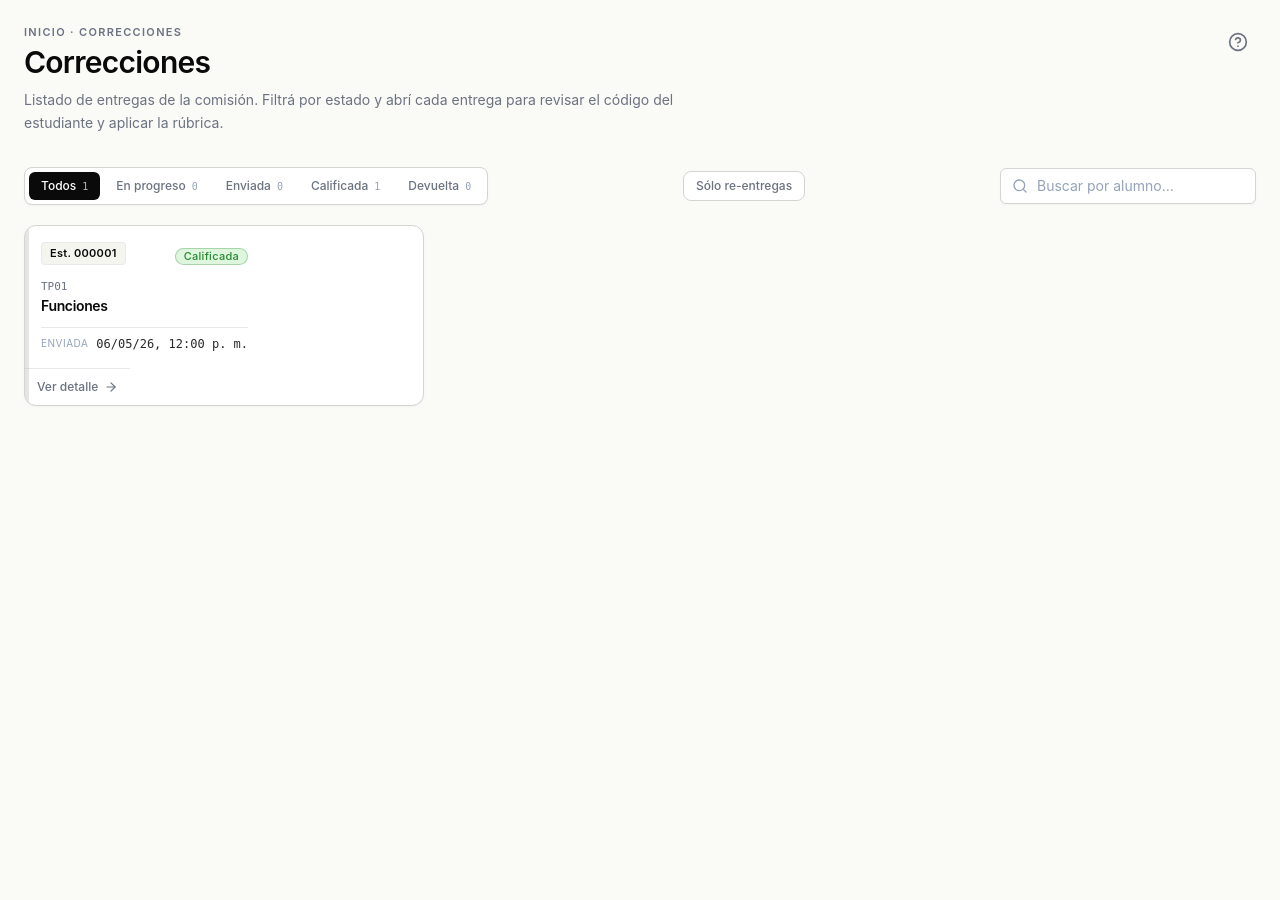
Test: Pedir correccion › destildar vuelve a deshabilitar confirmar
This screenshot has width=1280, height=900.
Click the button with test id "entrega-drill-btn" at x=83, y=254, box [24, 224, 424, 406]
(page scrolled)
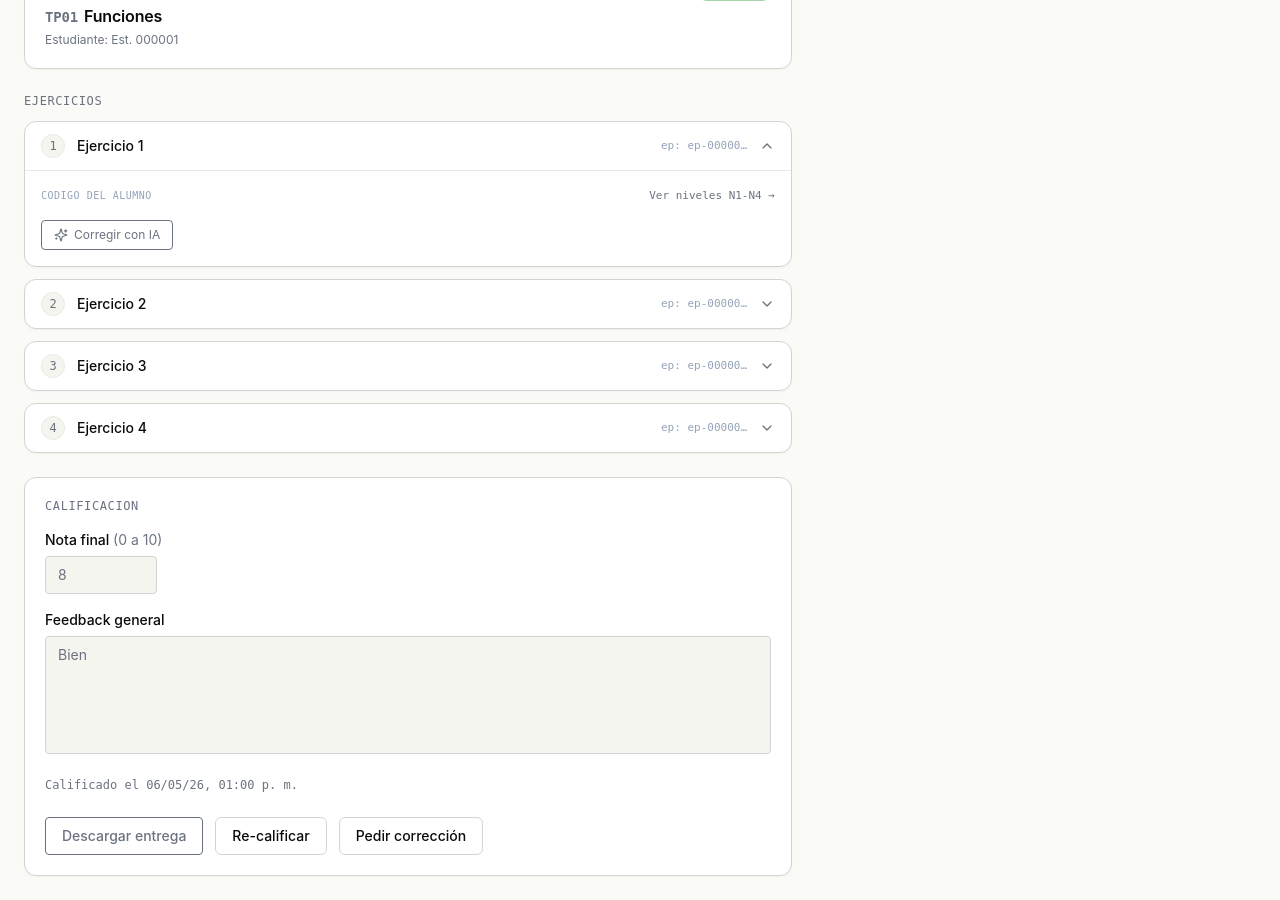
Result: the button with test id "devolver-btn" is shown
Click the button with test id "devolver-btn" at x=411, y=836, box [339, 817, 483, 855]
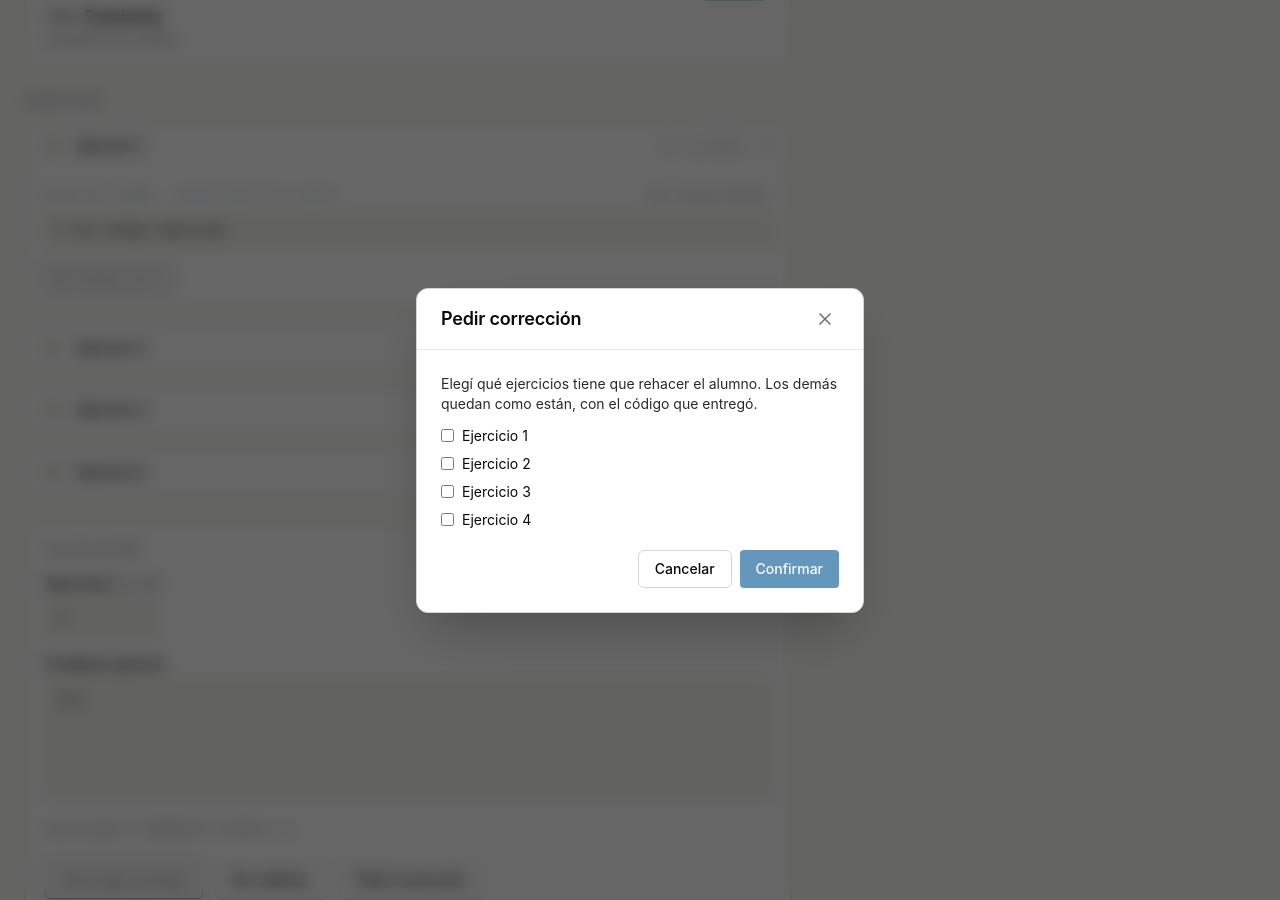
Click the checkbox with test id "pedir-correccion-ej-3" at x=448, y=492, box [441, 485, 454, 498]
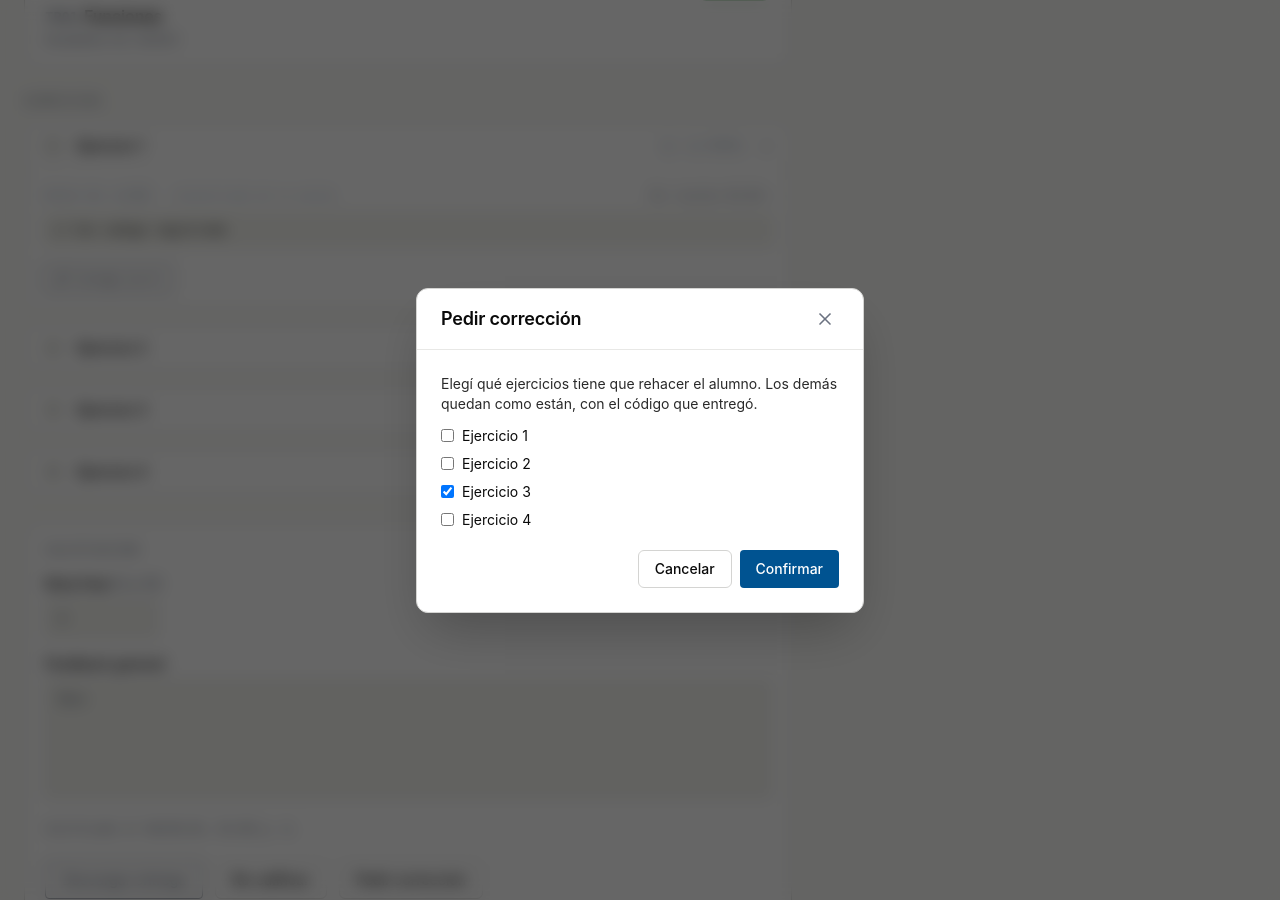
Result: the button with test id "pedir-correccion-confirmar-btn" is enabled at [740, 550, 839, 588]
Click the checkbox with test id "pedir-correccion-ej-3" at x=448, y=492, box [441, 485, 454, 498]
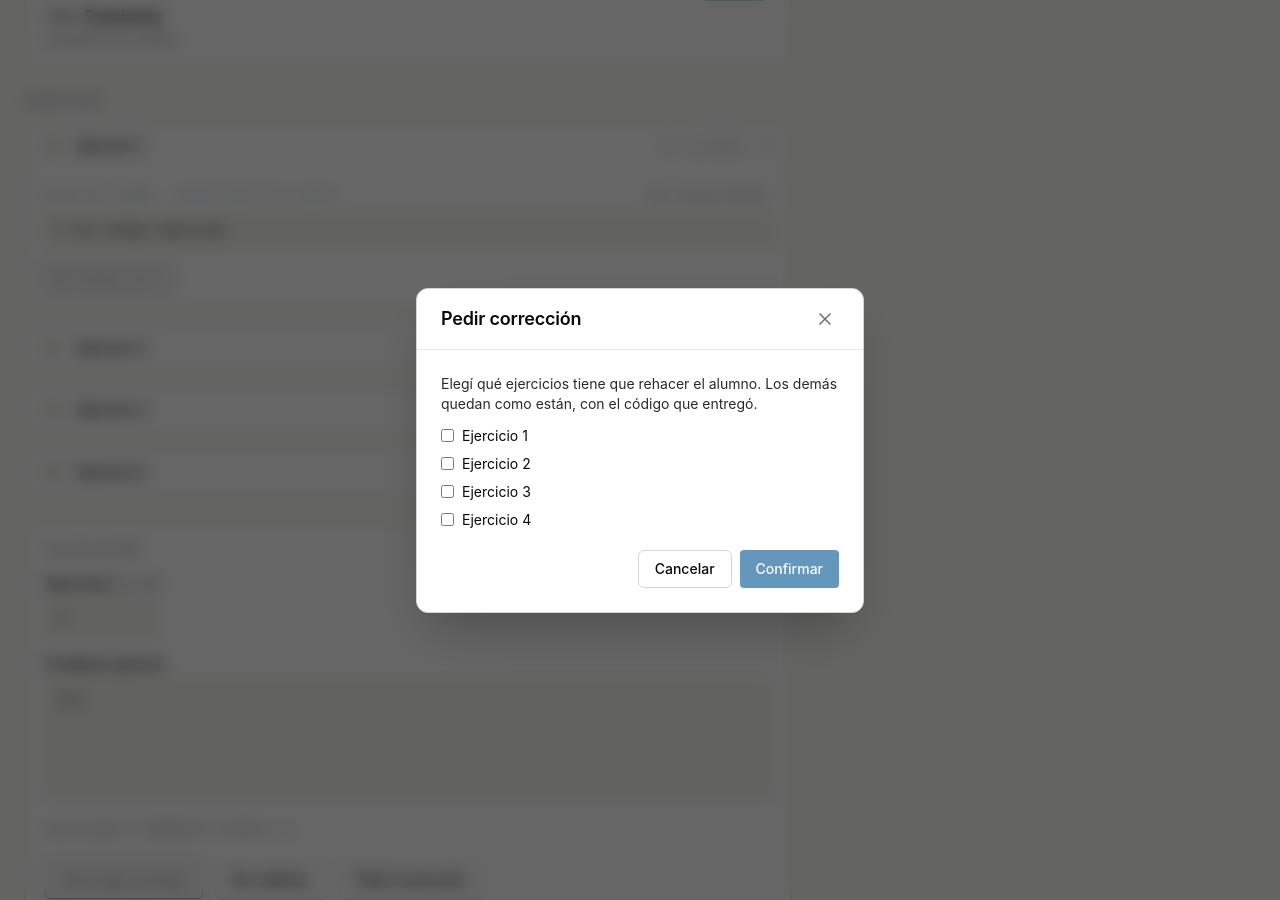
Result: the button with test id "pedir-correccion-confirmar-btn" is disabled at [740, 550, 839, 588]
